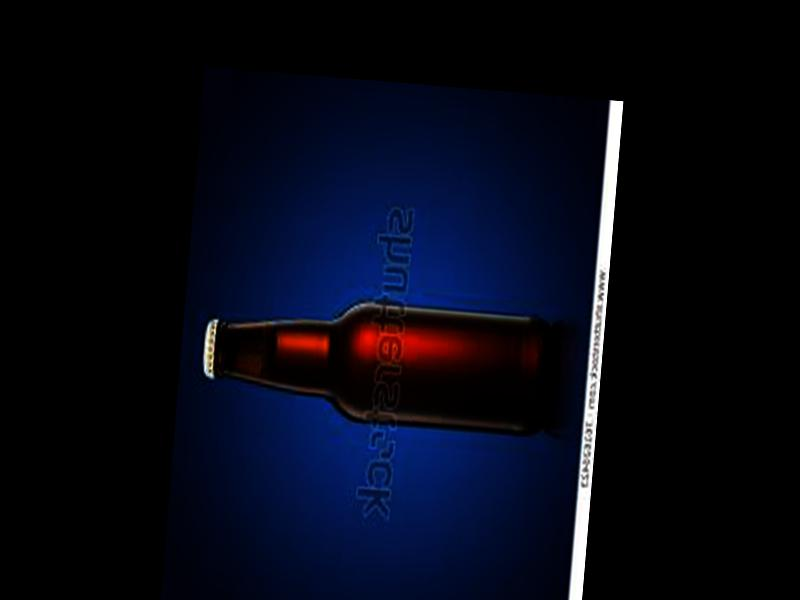Beer: (197, 288, 552, 438)
